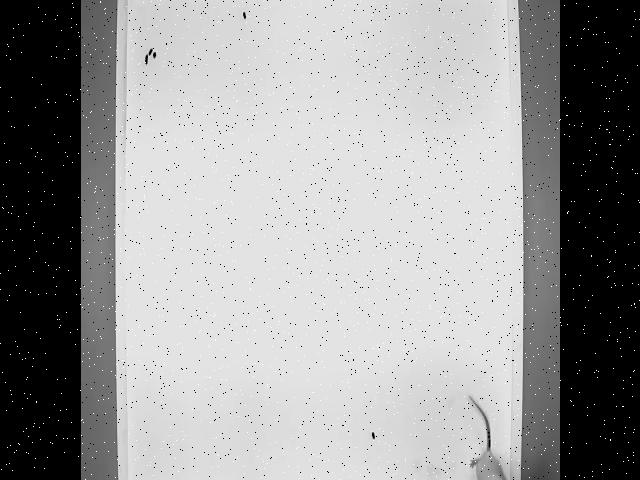Tikus: (461, 388, 519, 480)
